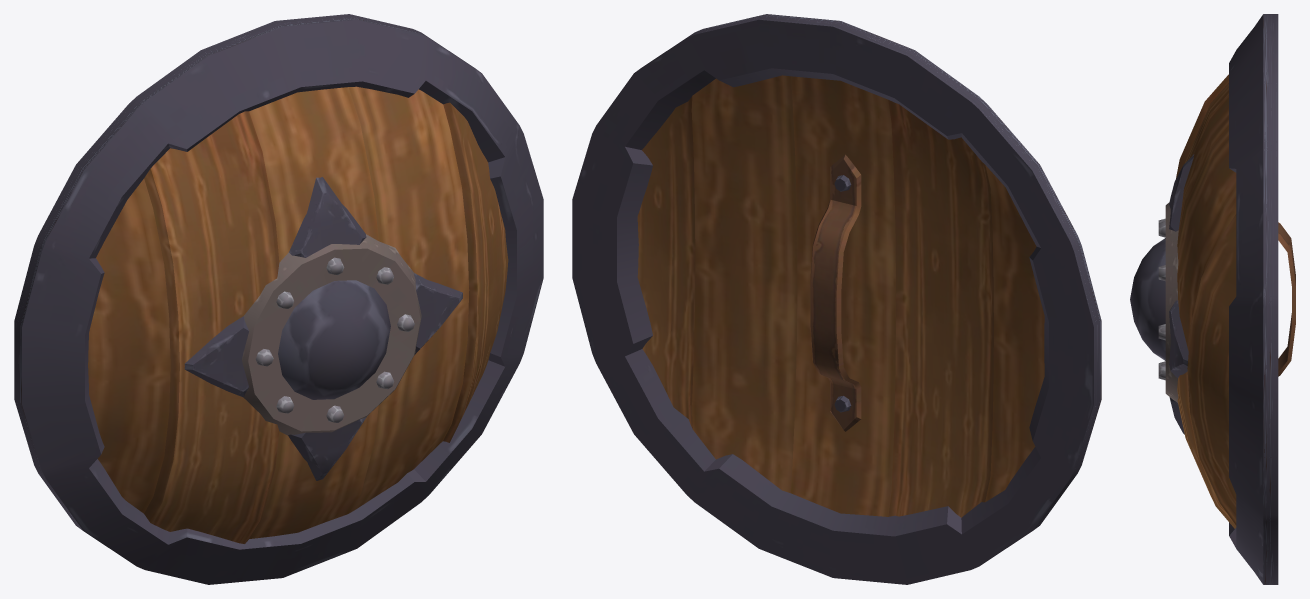
File: Shield_Wooden.glb
3 views of the same model, side by side, from view 1: azimuth 30°, elevation 25°; view 2: azimuth 150°, elevation 25°; view 3: azimuth 270°, elevation 25° (orthographic). The views are drawn at different scales.
Parts seen in each view (by area): view 1: Shield_Wooden; view 2: Shield_Wooden; view 3: Shield_Wooden.
Boxes of the visible parts, x1,y1,x2,y2 form: Shield_Wooden: (14,14,543,584); Shield_Wooden: (572,14,1101,584); Shield_Wooden: (1130,14,1295,584).
Size of the model in its own units: 0.6146 by 0.6209 by 0.1788.
3 materials, 3 textured.
